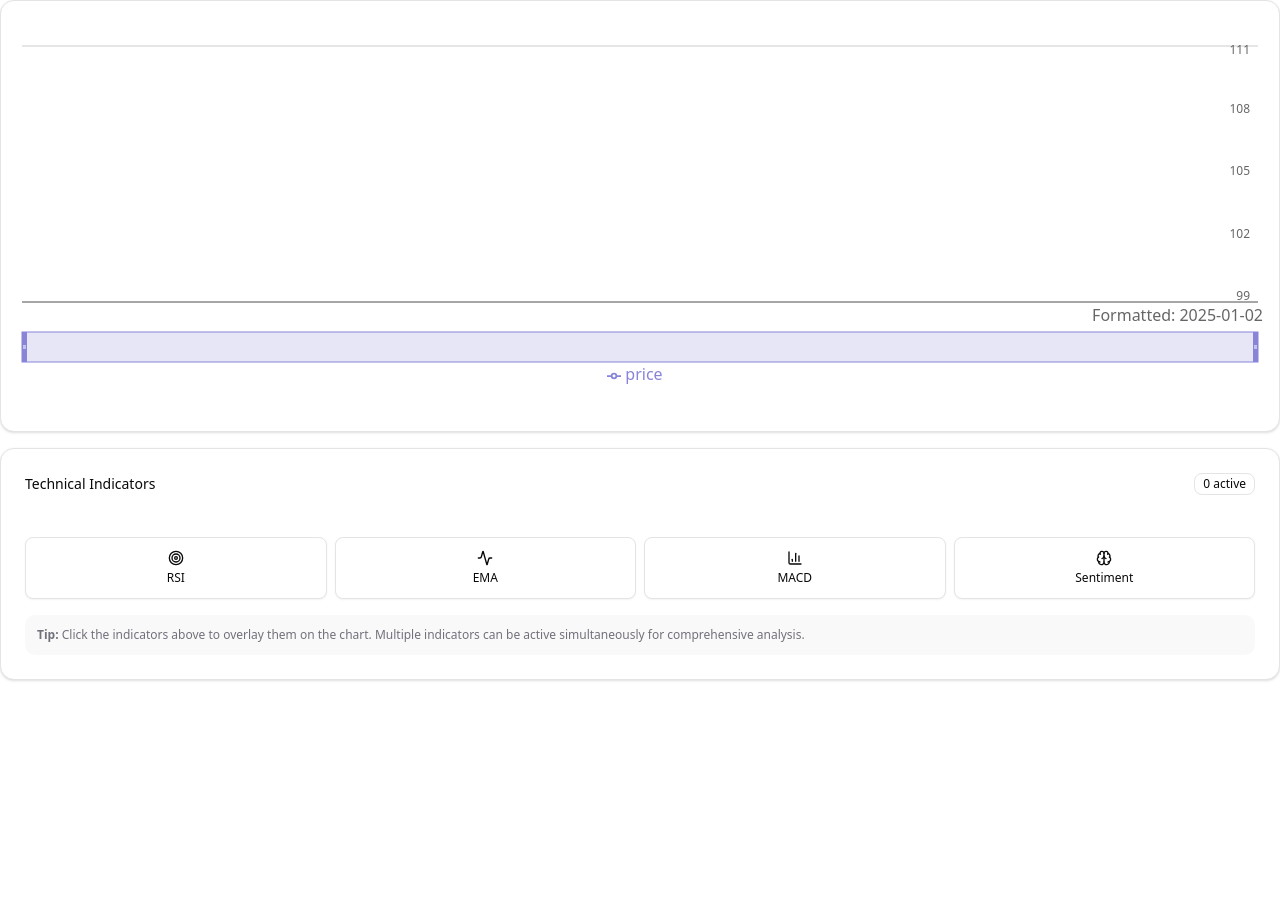
ExpertGraph Component › toggles RSI indicator
Click the button "RSI" at (176, 568), box [25,537,326,599]
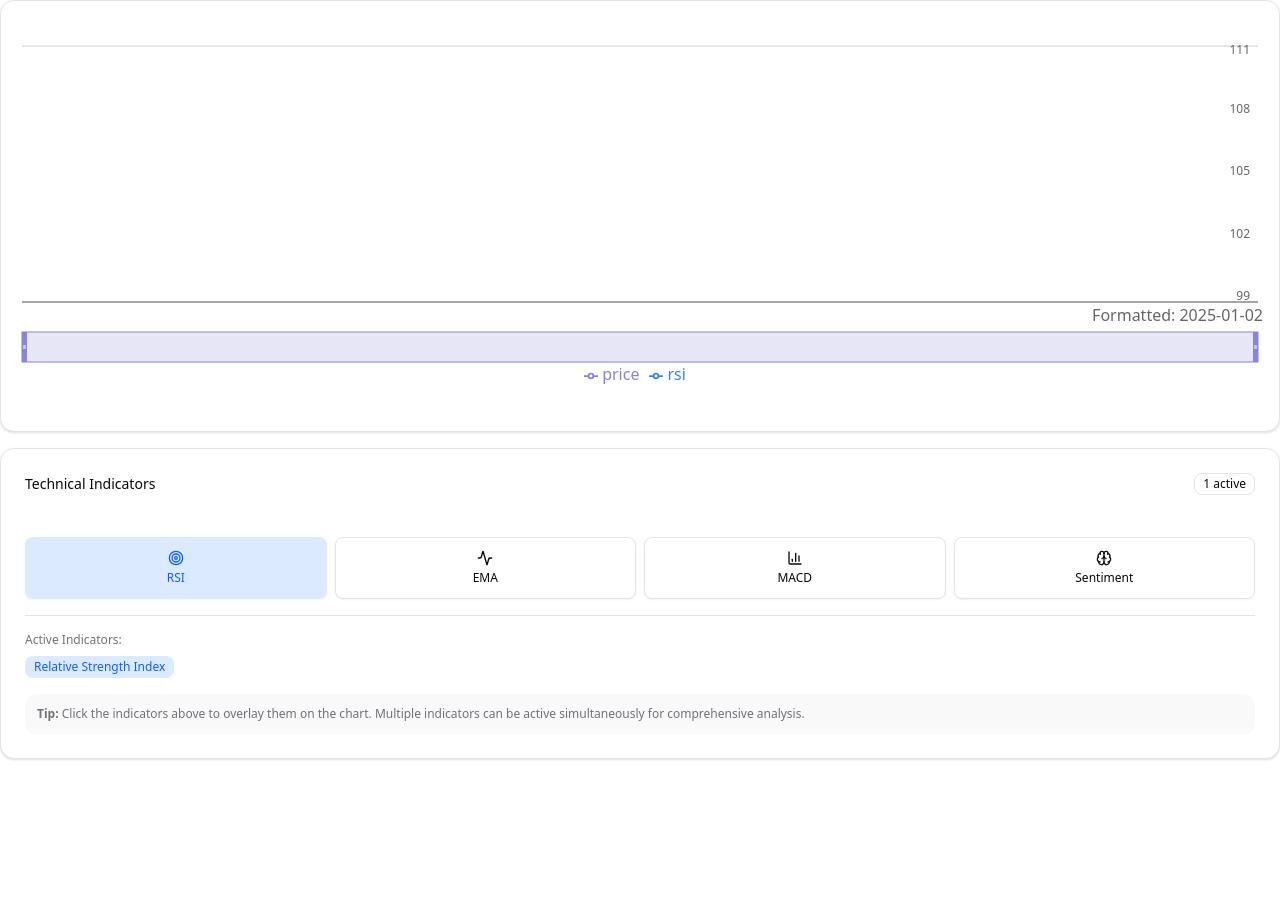
expect the text "1 active" is shown: met, box [1194,473,1255,495]
expect the text "Relative Strength Index" is shown: met, box [25,656,174,678]
toggle off
Click the button "RSI" at (176, 568), box [25,537,326,599]
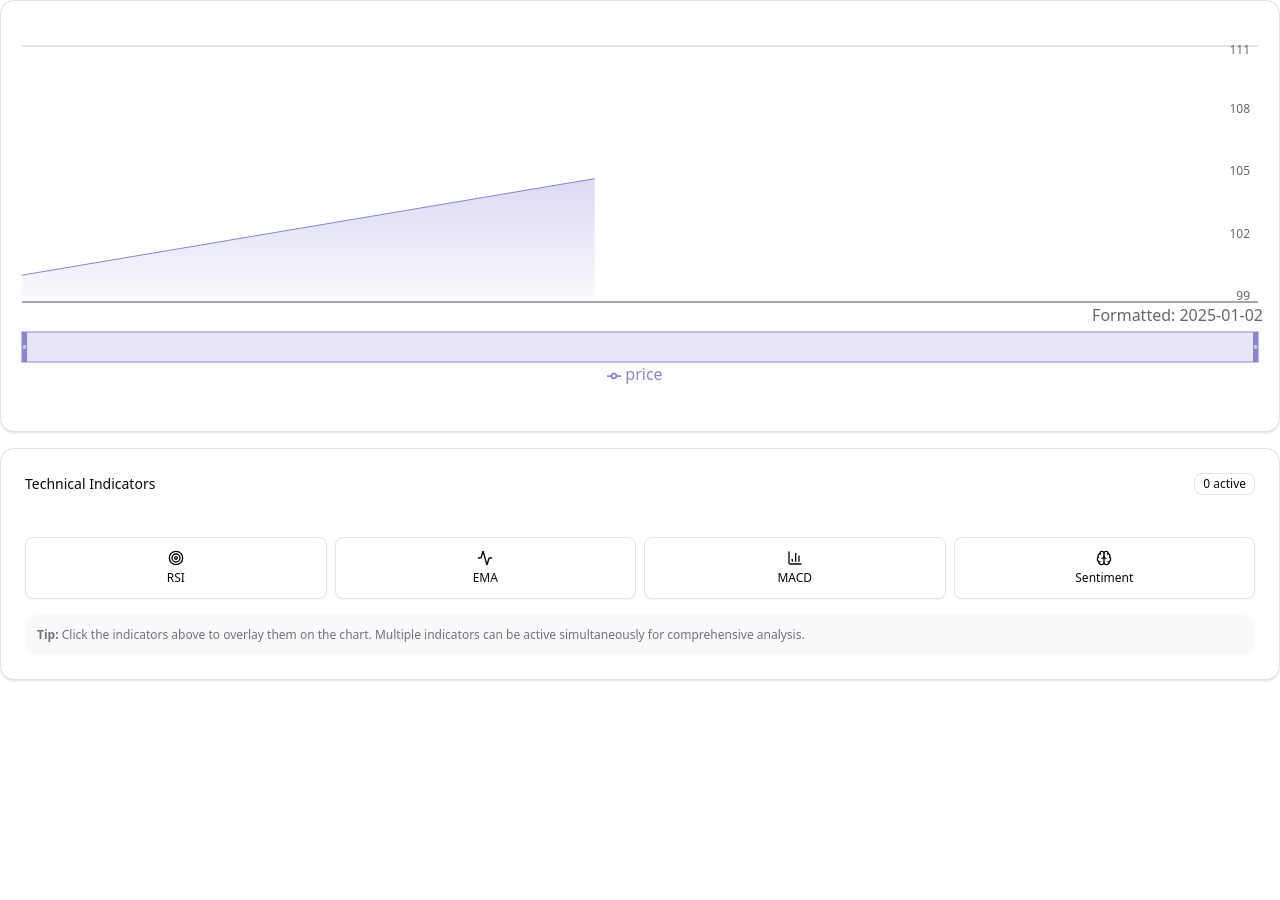
expect the text "0 active" is shown: met, box [1194,473,1255,495]
